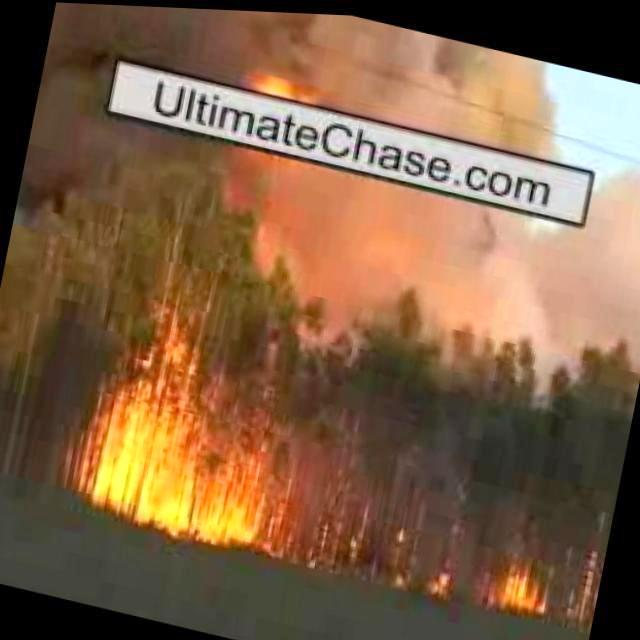fire: (66, 314, 318, 562), (288, 489, 426, 596), (482, 554, 558, 614), (568, 544, 606, 628), (258, 70, 314, 102), (430, 562, 454, 598)
